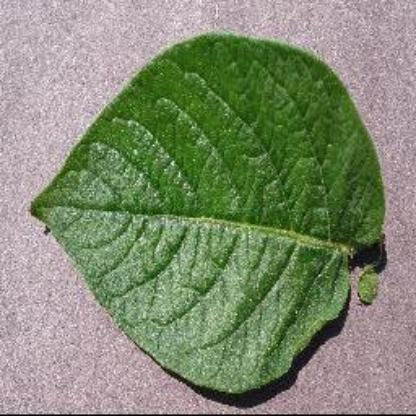Healthy-plant: (32, 35, 388, 391)
